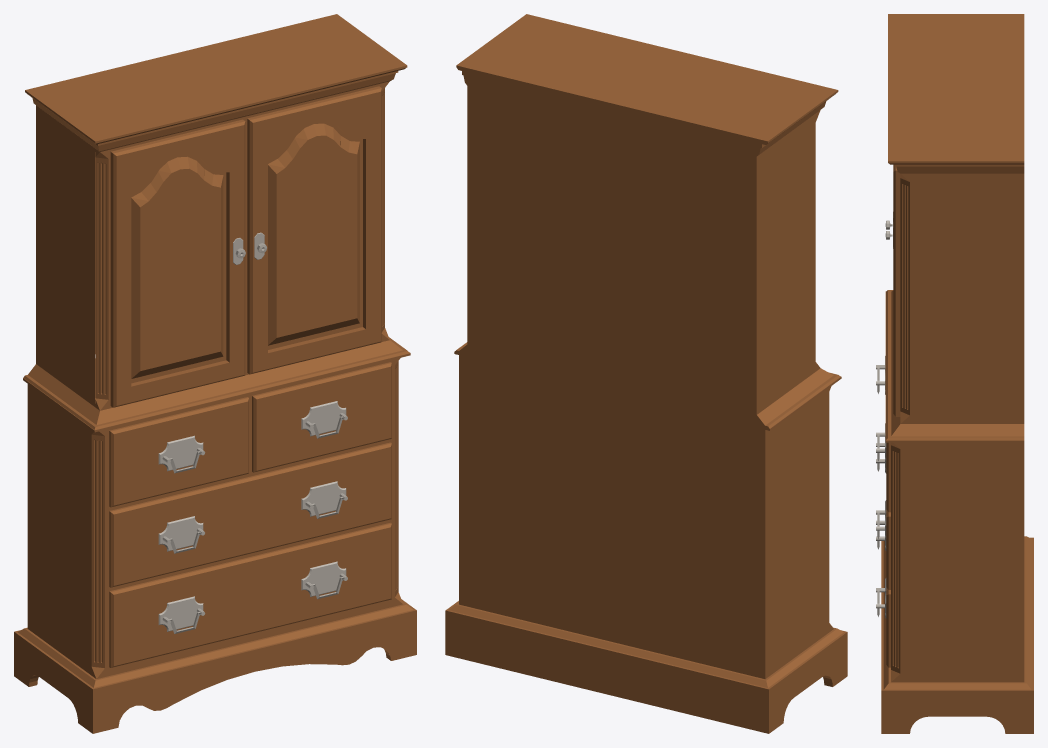
Rendered from dresser-by-cmht-oculus-3v07gbyeiSF.glb.
3 renders of one model, left to right at view 1: azimuth 30°, elevation 25°; view 2: azimuth 150°, elevation 25°; view 3: azimuth 270°, elevation 25°, orthographic. The views are drawn at different scales.
Parts seen in each view (by area): view 1: Node; view 2: Node; view 3: Node.
Boxes of the visible parts, x1,y1,x2,y2 form: Node: [14, 14, 416, 733]; Node: [445, 14, 847, 733]; Node: [876, 14, 1033, 733].
Size of the model in its own units: 38 by 65.94 by 16.56.
